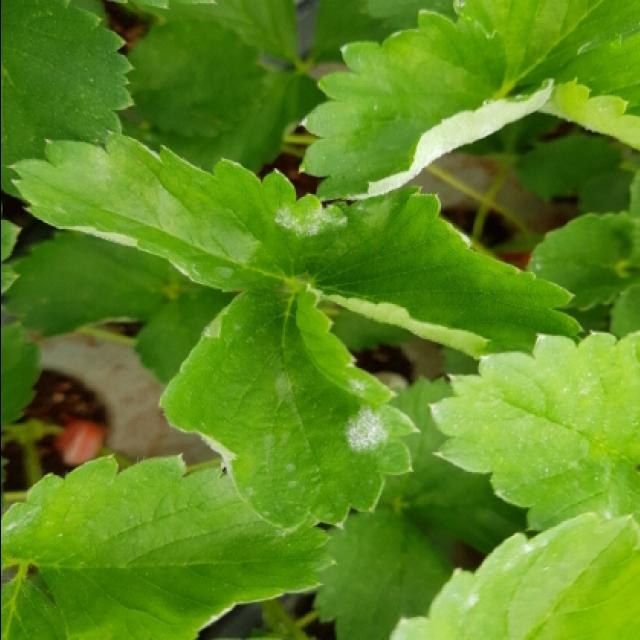Powdery Mildew Leaf: (156, 285, 422, 533), (2, 452, 335, 640), (5, 126, 328, 292), (295, 182, 586, 361), (296, 8, 553, 204), (386, 508, 640, 640)
